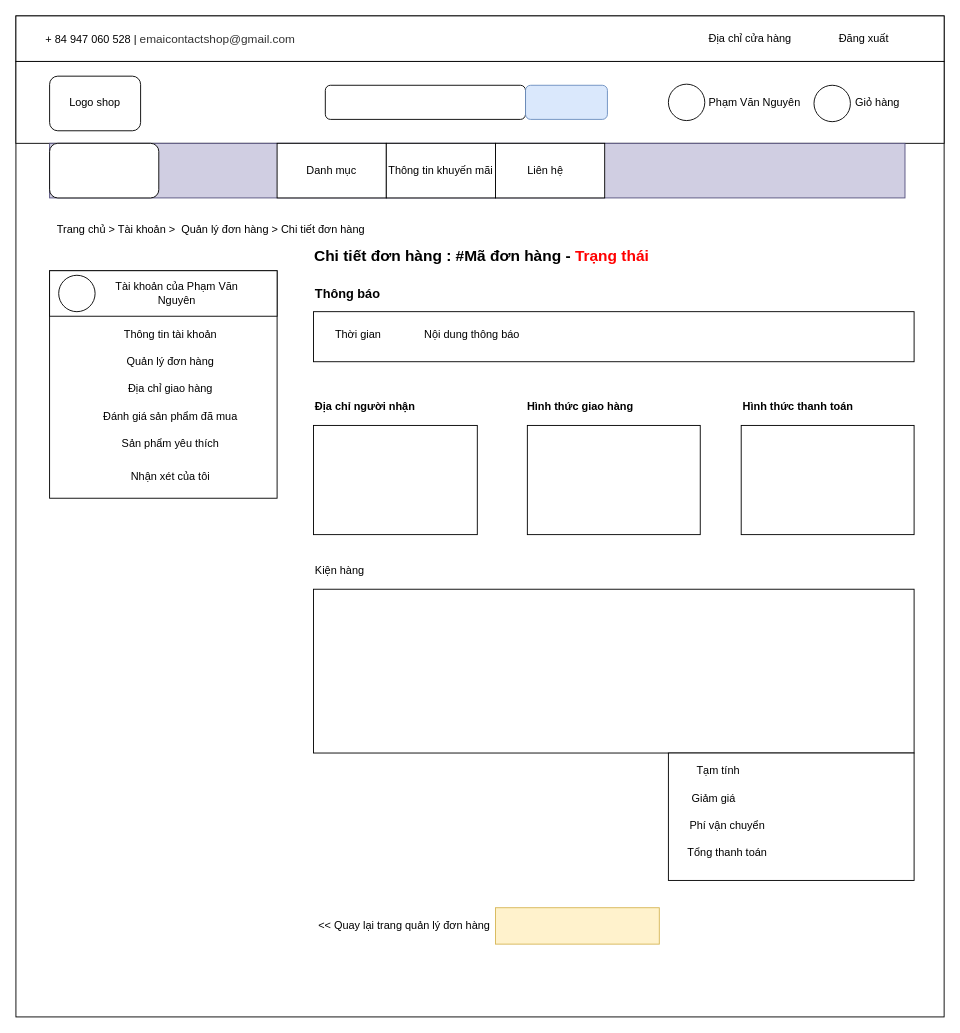
Image size: 960x1033. Some labels were removed from this diagram. The centre of each missing label's shape, as x and y in pixels:
Theo dõi trạng thái đơn hàng: (x=577, y=925)
Trang chủ: (x=104, y=170)
